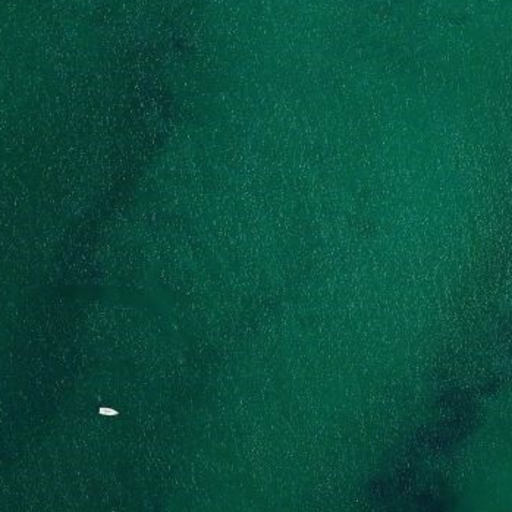ship: (96, 404, 121, 420)
